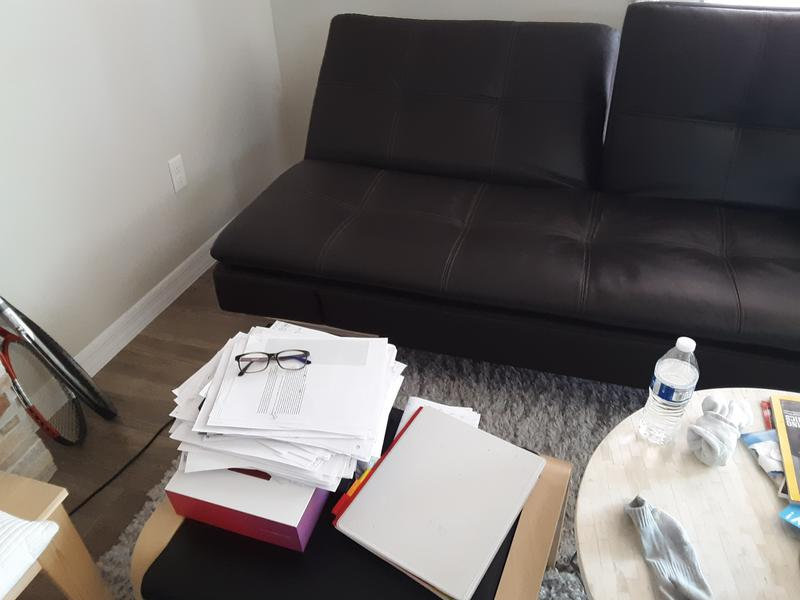glasses: (234, 348, 313, 377)
